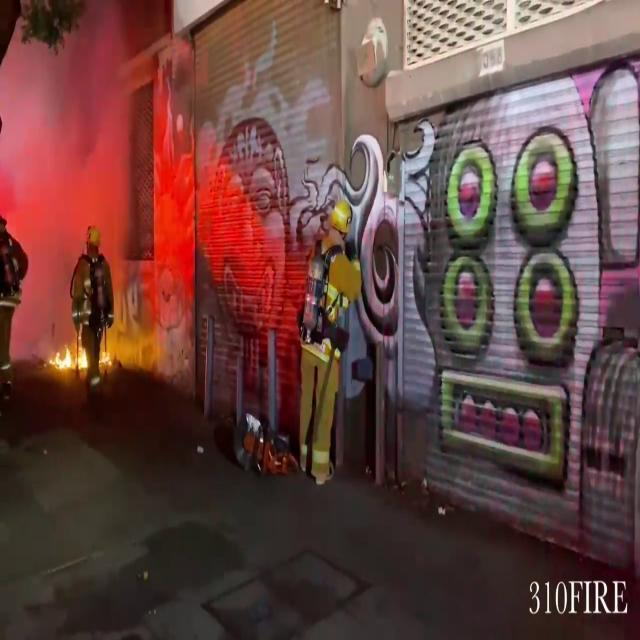Fire: (46, 332, 90, 381)
